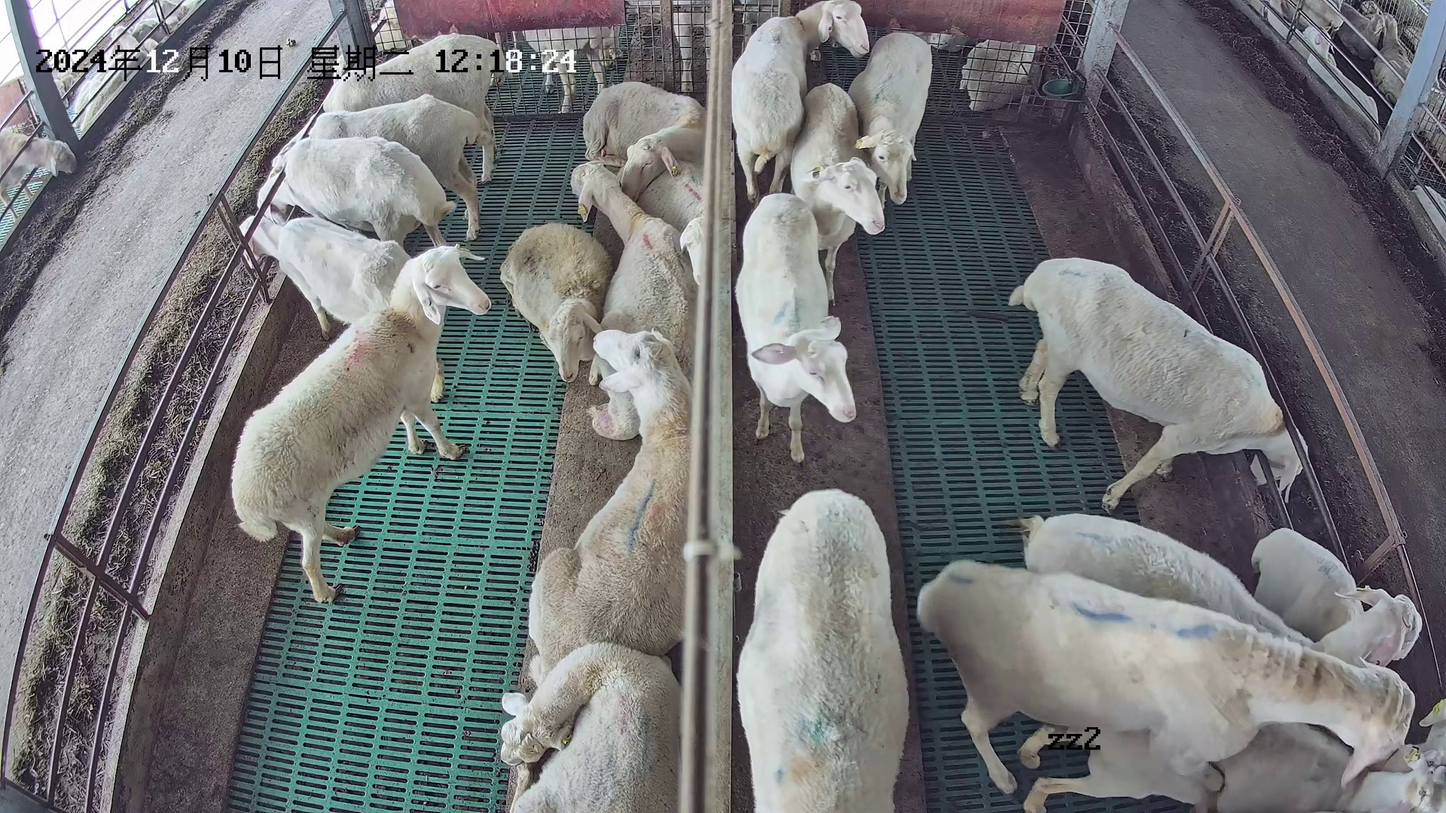Smounting: (916, 557, 1446, 813)
mounted: (1018, 720, 1446, 813)
